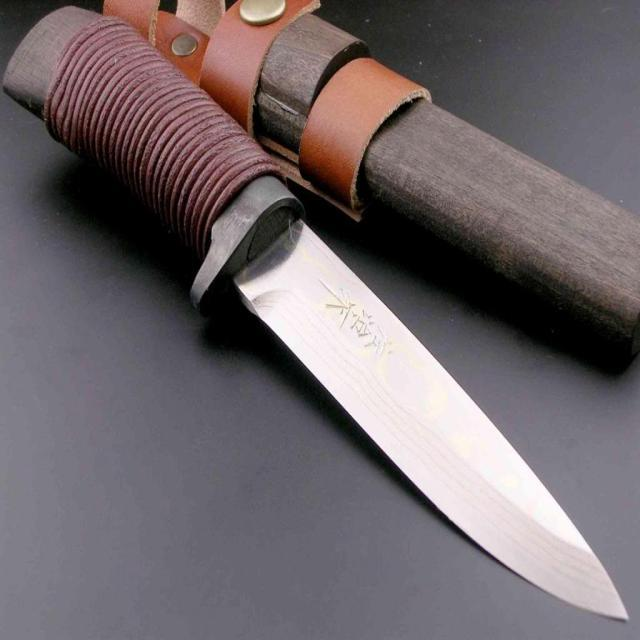Pisau: (4, 2, 635, 632)
